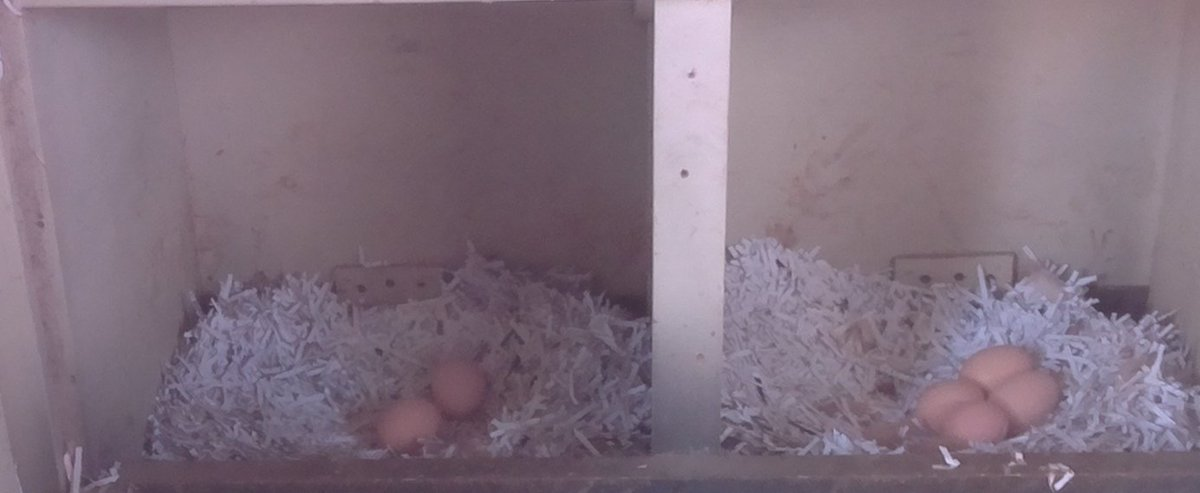egg: (985, 367, 1069, 427), (428, 356, 493, 425), (938, 397, 1016, 453), (377, 396, 447, 455), (958, 343, 1041, 389), (916, 377, 987, 426)
